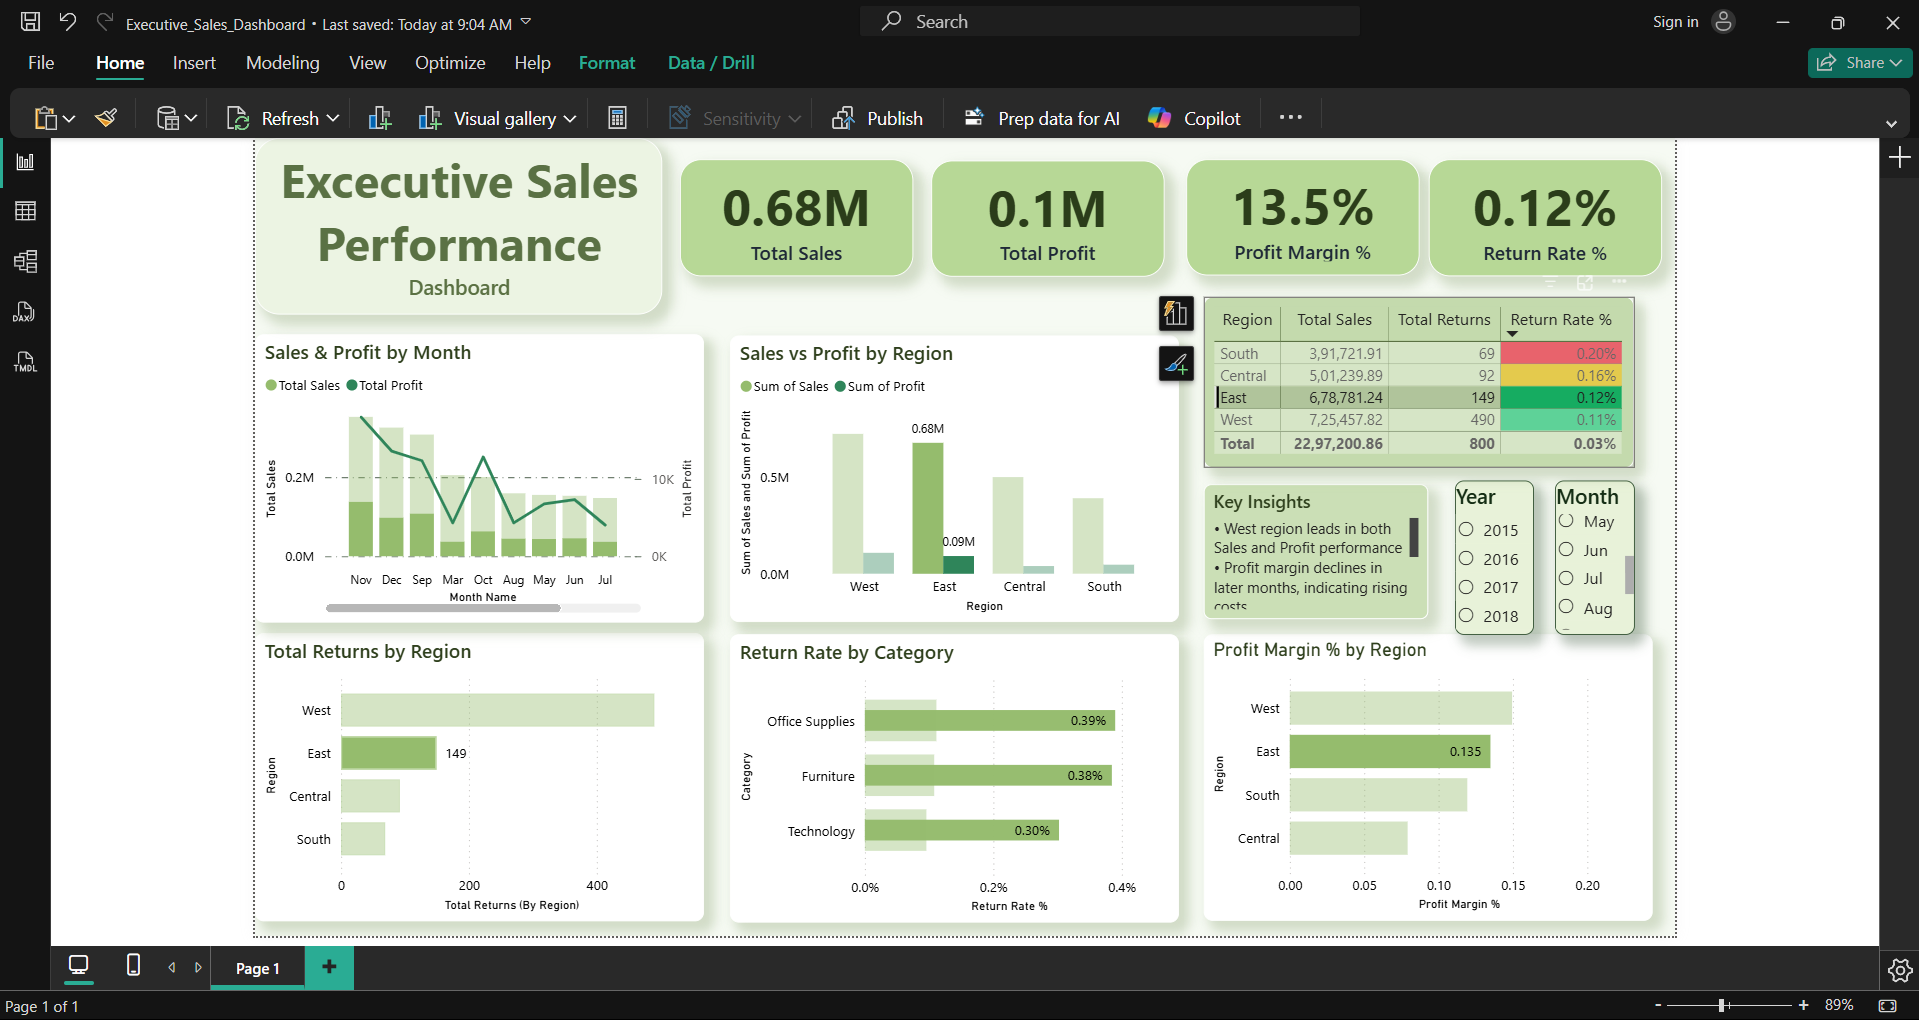

Layout of this report page (visuals, bound fields, positions):
{"tool":"powerbi","page":{"name":"Page 1","canvas":[1280,720],"ordinal":0},"visuals":[{"type":"clusteredBarChart","title":"Total Returns by Region","fields":{"Category":["Fact_Sales.Region"],"Y":["Fact_Returns.Total Returns (By Region)"]},"box":[0,446.6,404.9,260.2],"z":0},{"type":"tableEx","fields":{"Values":["Fact_Sales.Region","Dim_RegionManager.Total Sales","Dim_RegionManager.Total Returns","Dim_RegionManager.Return Rate %"]},"box":[855.8,143.1,388.1,154.3],"z":1000},{"type":"card","title":"Total Sales","fields":{"Values":["Dim_RegionManager.Total Sales"]},"box":[383.1,18.7,210.2,105.7],"z":2000},{"type":"card","title":"Total Profit","fields":{"Values":["Fact_Sales.Total Profit"]},"box":[609.5,19.9,210.2,104.5],"z":3000},{"type":"card","title":"Profit Margin","fields":{"Values":["Fact_Sales.Profit Margin %"]},"box":[839.7,18.7,210.2,104.5],"z":4000},{"type":"card","title":"Return Rate","fields":{"Values":["Dim_RegionManager.Return Rate %"]},"box":[1058.6,18.7,210.2,105.7],"z":5000},{"type":"clusteredColumnChart","title":"Sales vs Profit by Region","fields":{"Category":["Fact_Sales.Region"],"Y":["Sum(Fact_Sales.Sales)","Sum(Fact_Sales.Profit)"]},"box":[428.5,178.1,404.9,258.8],"z":8000},{"type":"clusteredBarChart","title":"Return Rate by Category","fields":{"Category":["Fact_Sales.Category"],"Y":["Dim_RegionManager.Return Rate %"]},"box":[428.5,448,404.9,260.2],"z":9000},{"type":"lineClusteredColumnComboChart","title":"Sales & Profit by Month","fields":{"Category":["Dim_Date.Month Name"],"Y":["Dim_RegionManager.Total Sales"],"Y2":["Fact_Sales.Total Profit"]},"box":[0,176.7,404.9,260.2],"z":10000},{"type":"textbox","title":"Excecutive Sales Performance ","box":[0,0,367,159.2],"z":11000},{"type":"clusteredBarChart","fields":{"Y":["Fact_Sales.Profit Margin %"],"Category":["Fact_Sales.Region"]},"box":[855.7,448,404.9,258.8],"z":13000},{"type":"textbox","title":"Key Insights","box":[855.8,312.2,202.8,121.9],"z":14000},{"type":"listSlicer","fields":{"Values":["Dim_Date.Year"]},"box":[1082.2,308.5,70.9,139.3],"z":14001},{"type":"listSlicer","title":"Month ","fields":{"Values":["Dim_Date.Month Name"]},"box":[1171.8,308.5,72.1,139.3],"z":14002}]}

Visuals, with their boxes on the page's 1280x720 design canvas (x1, y1, x2, y2). These are canvas units, not pixel positions in the 1919x1020 screenshot, which may show the page scaled, cropped or inside an application window:
"Total Returns by Region" clusteredBarChart: detection(0, 447, 405, 707)
tableEx - Fact_Sales.Region x Dim_RegionManager.Total Sales: detection(856, 143, 1244, 297)
"Total Sales" card: detection(383, 19, 593, 124)
"Total Profit" card: detection(610, 20, 820, 124)
"Profit Margin" card: detection(840, 19, 1050, 123)
"Return Rate" card: detection(1059, 19, 1269, 124)
"Sales vs Profit by Region" clusteredColumnChart: detection(428, 178, 833, 437)
"Return Rate by Category" clusteredBarChart: detection(428, 448, 833, 708)
"Sales & Profit by Month" lineClusteredColumnComboChart: detection(0, 177, 405, 437)
"Excecutive Sales Performance " textbox: detection(0, 0, 367, 159)
clusteredBarChart - Fact_Sales.Profit Margin % x Fact_Sales.Region: detection(856, 448, 1261, 707)
"Key Insights" textbox: detection(856, 312, 1059, 434)
listSlicer - Dim_Date.Year: detection(1082, 308, 1153, 448)
"Month " listSlicer: detection(1172, 308, 1244, 448)
